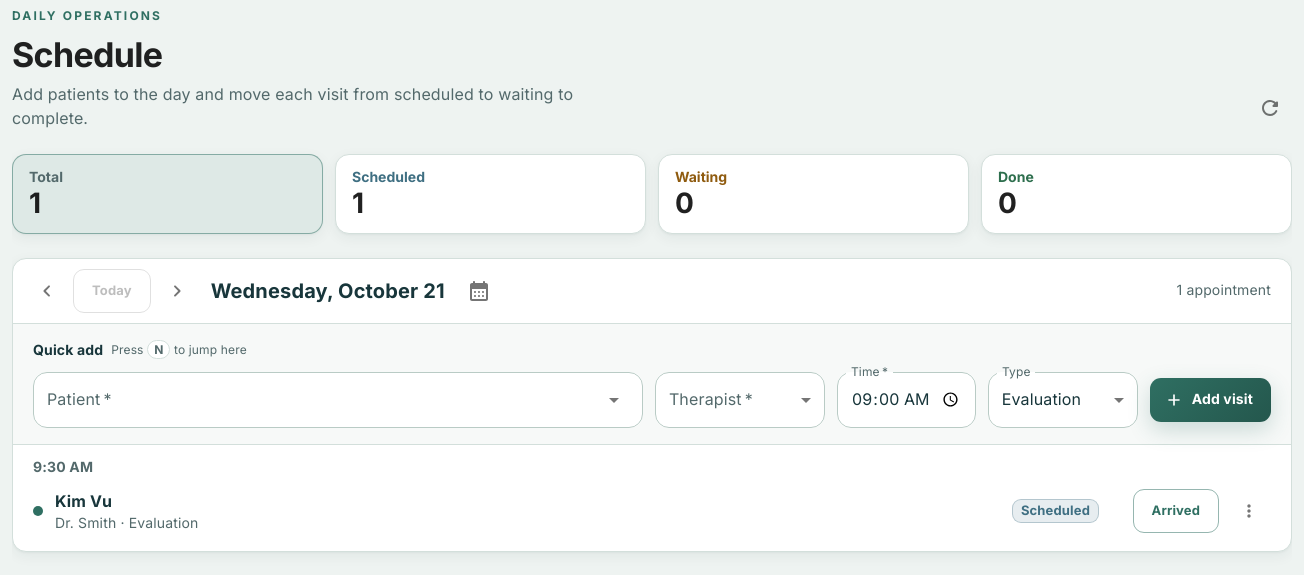
Test: SchedulePage › keeps the previous day dimmed with actions disabled while a new date loads
Check: the text "Kim Vu" is shown, box 55,490 -> 112,510
Type "2000-01-01" into the date field named "Date" at (263, 290), box 25,268 -> 501,312
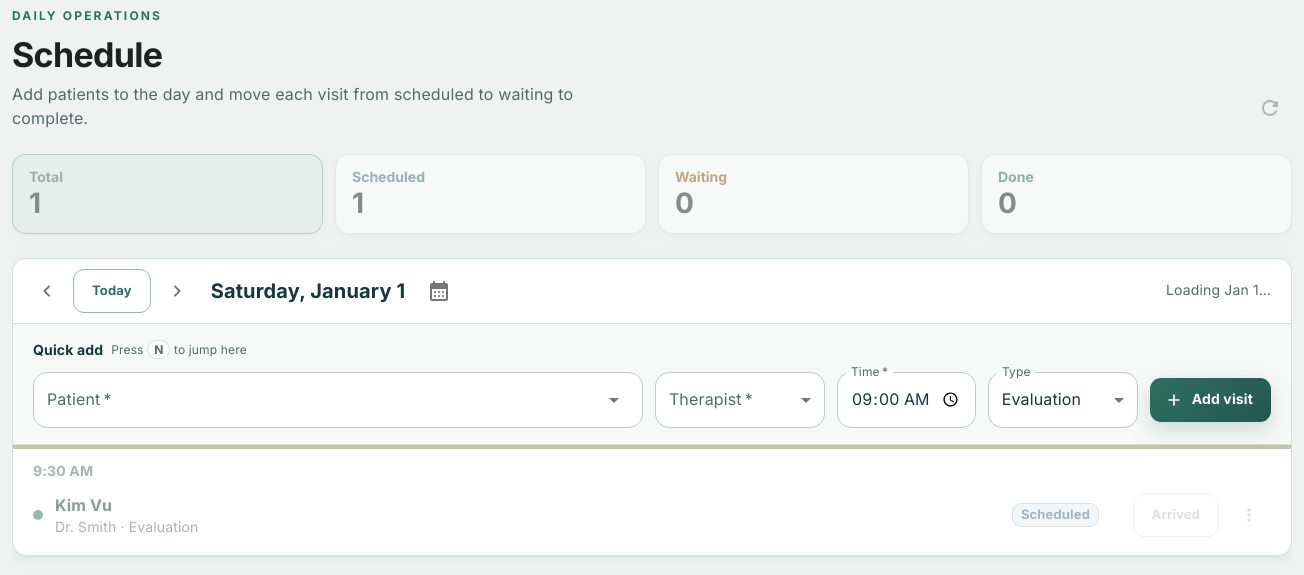
Check: the text "Loading Jan 1…" is shown, box 1158,280 -> 1279,300
Check: the button "Arrived" is disabled, box 1133,492 -> 1219,536
Check: the button named "More actions for Kim Vu" is disabled, box 1227,492 -> 1271,536
